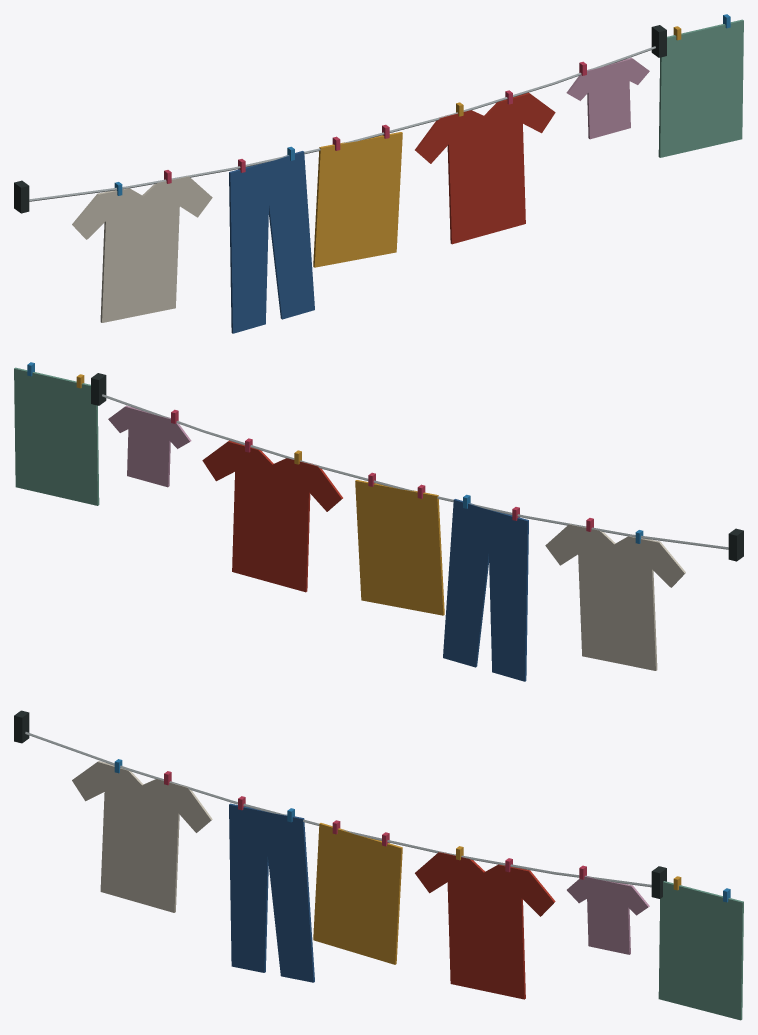
Rendered from day_phoi.glb.
3 views of the same model, one above another, from view 1: azimuth 30°, elevation 25°; view 2: azimuth 150°, elevation 25°; view 3: azimuth 330°, elevation 25° (orthographic).
Visible parts, largest first — view 1: day_phoi; view 2: day_phoi; view 3: day_phoi.
Boxes of the visible parts, bbox=[...] form: day_phoi: bbox=[14, 14, 743, 333]; day_phoi: bbox=[14, 362, 743, 681]; day_phoi: bbox=[14, 710, 743, 1020].
Size of the model in its own units: 3.53 by 0.9327 by 0.06.
